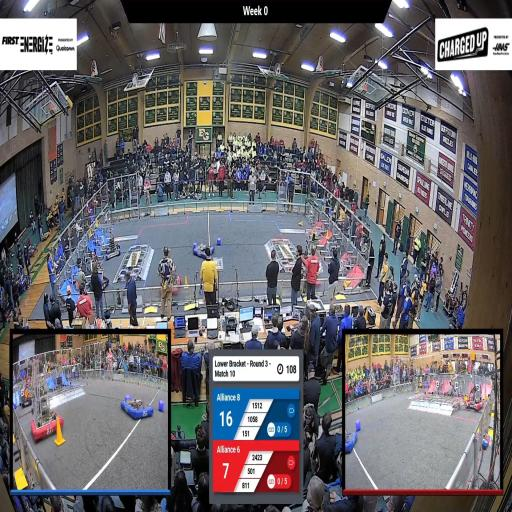robot: (300, 228, 322, 269), (88, 260, 110, 296), (192, 233, 216, 264), (301, 260, 323, 290), (162, 266, 182, 298), (104, 228, 121, 262)
